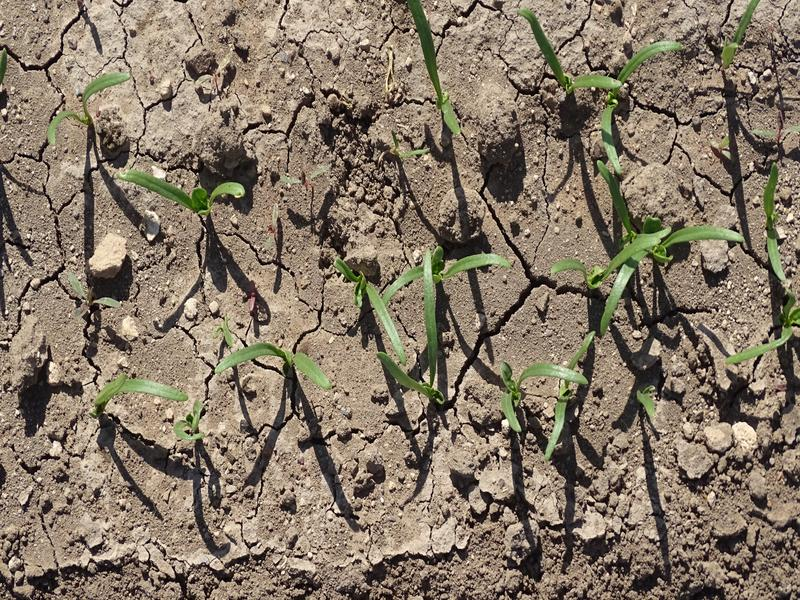Espinaca: (552, 165, 743, 330), (336, 248, 485, 399), (519, 9, 635, 177), (493, 330, 595, 448), (92, 369, 207, 442), (406, 5, 467, 139), (116, 161, 245, 218), (219, 341, 333, 394), (49, 72, 133, 142), (734, 299, 800, 376), (762, 165, 789, 280)
